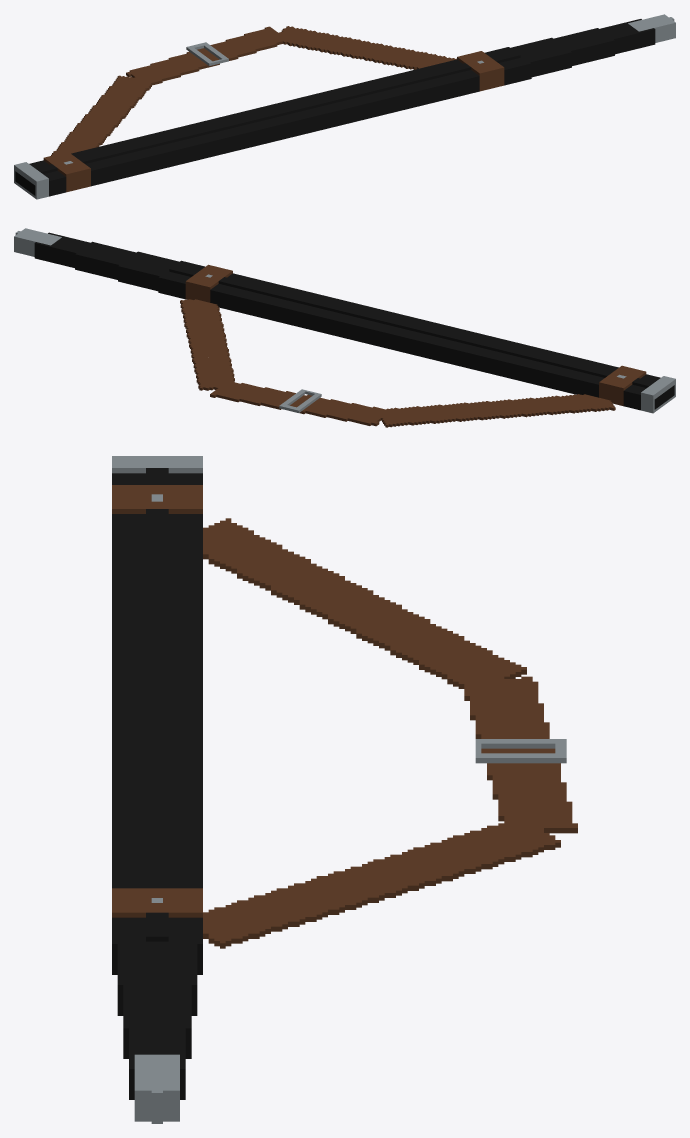
The model's file is bscabbard.glb.
3 renders of one model, top to bottom at view 1: azimuth 30°, elevation 25°; view 2: azimuth 150°, elevation 25°; view 3: azimuth 270°, elevation 25°, orthographic. The views are drawn at different scales.
Parts seen in each view (by area): view 1: bscabbard:compound; view 2: bscabbard:compound; view 3: bscabbard:compound.
Part boxes in pixels (x1,y1,x2,y2): bscabbard:compound: [14, 14, 675, 199]; bscabbard:compound: [14, 228, 675, 427]; bscabbard:compound: [112, 456, 577, 1123].
Bounding box in the file's own units: 1.05 × 0.028 × 0.328.
